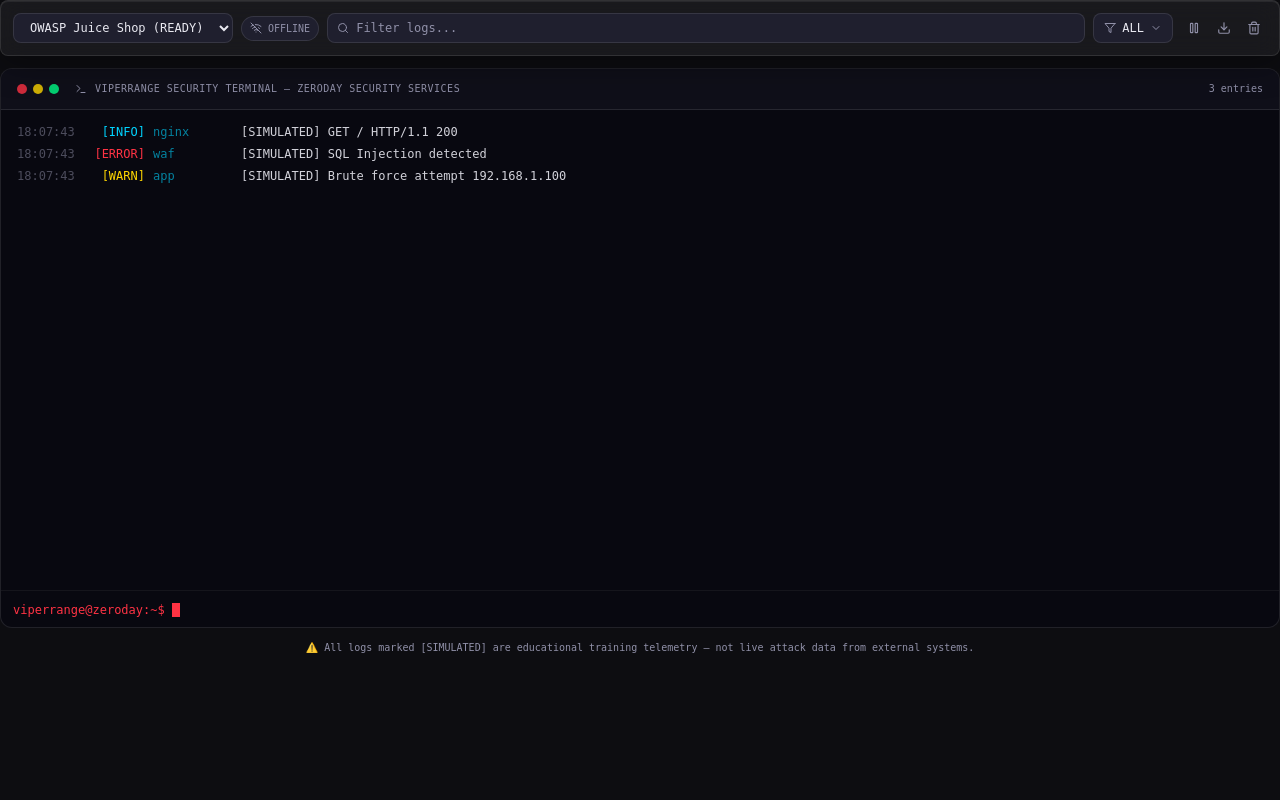
Test: LiveTerminal › filters logs by search text
Type "SQL" into the field with placeholder "Filter logs..." at (706, 28), box [327, 13, 1085, 43]
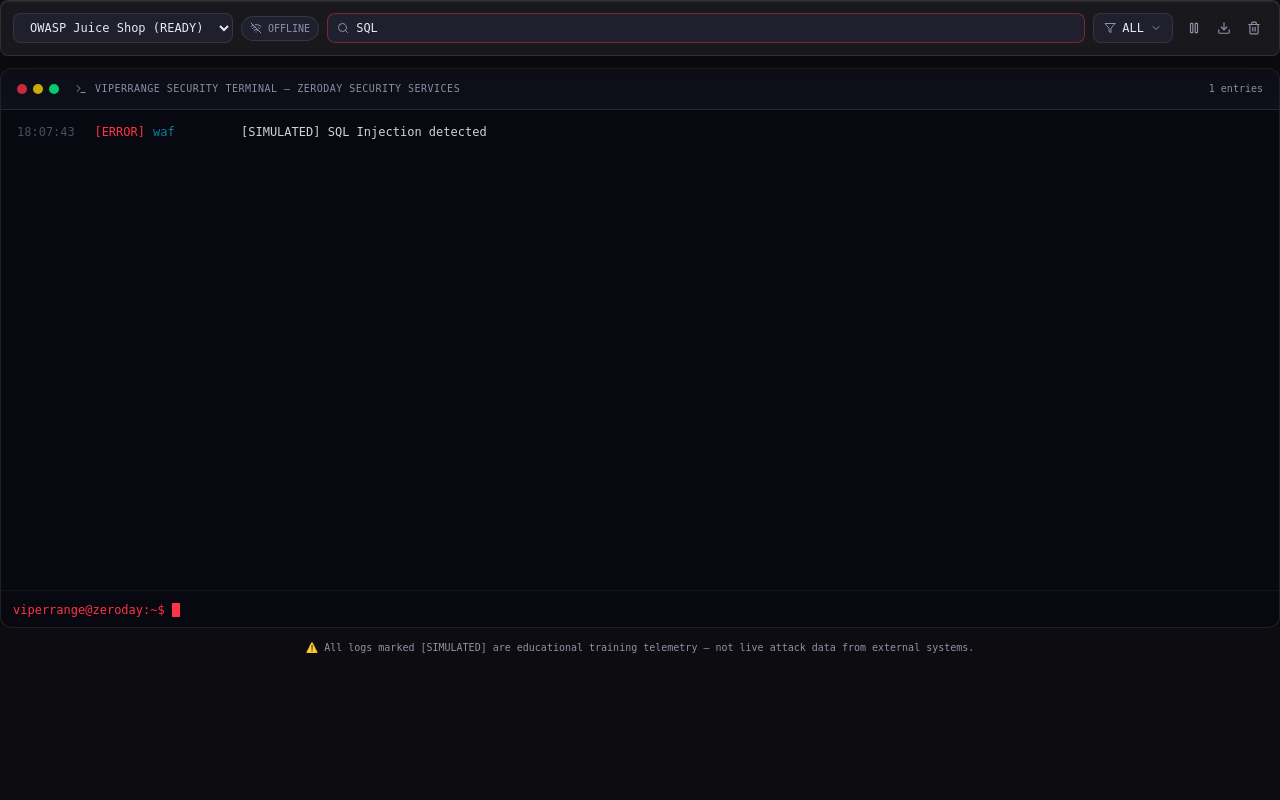
expect the text "[SIMULATED] SQL Injection detected" is shown: met, box [241, 125, 487, 139]
expect the text "Brute force attempt" is gone: met
